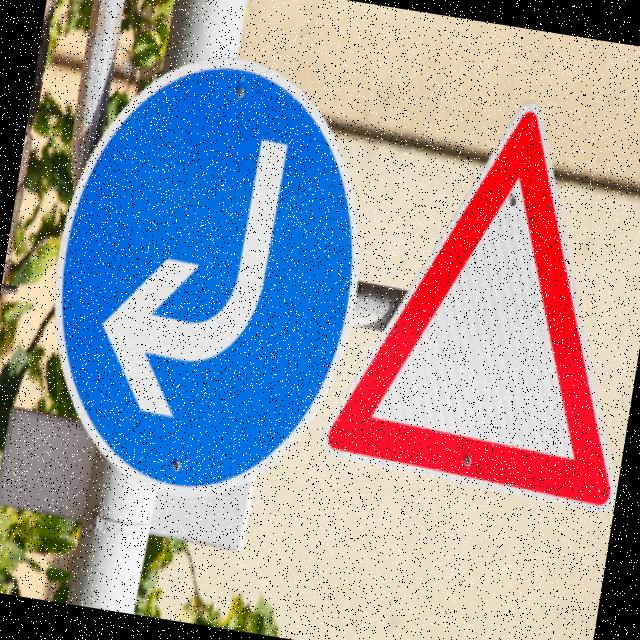compulsory_keep_right: (22, 26, 390, 528)
give_way: (313, 70, 640, 540)
